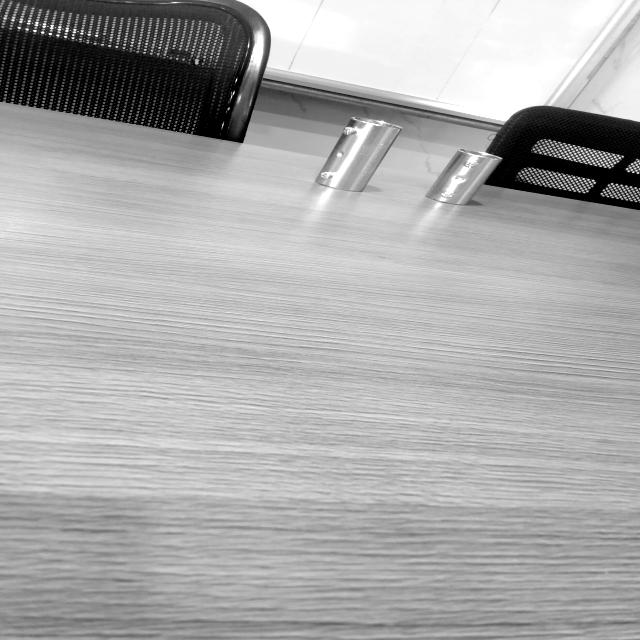Co_Lon: (312, 102, 403, 206)
Co_Nho: (424, 135, 502, 220)
